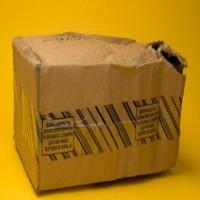damaged package: (140, 38, 187, 81)
undamaged: (8, 29, 190, 194)
